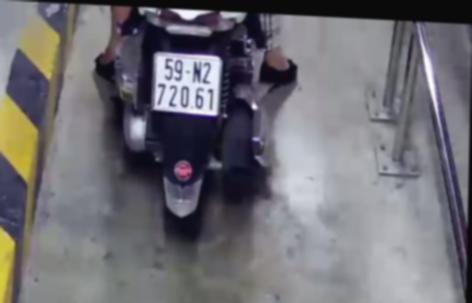License_Plate: (147, 50, 229, 121)
